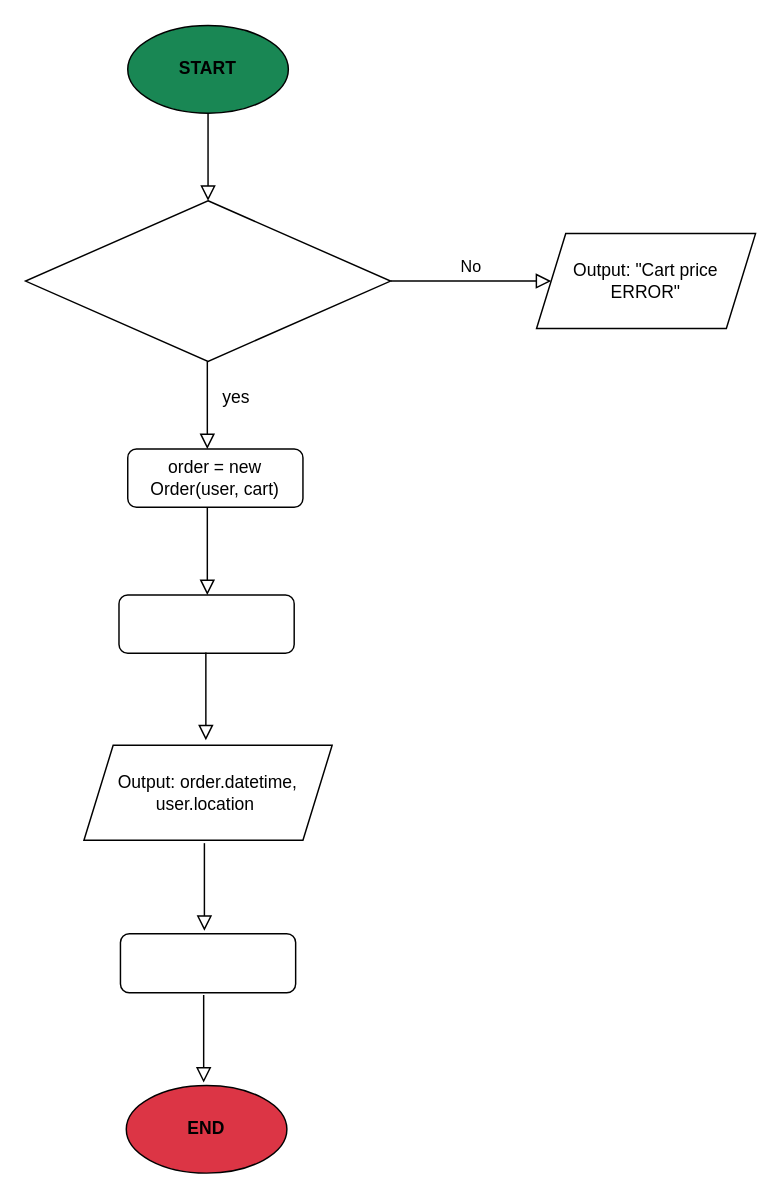
This 781x1199 diagram has some shape labels left out. Each missing label, with the centre of its shape:
"cart.cart_price > 0 AND user.balance >= cart.cart_price" goes at [207,280].
"Send email to the Sellers" goes at [207,962].
"user.balance -= cart.cart_price" goes at [206,623].
